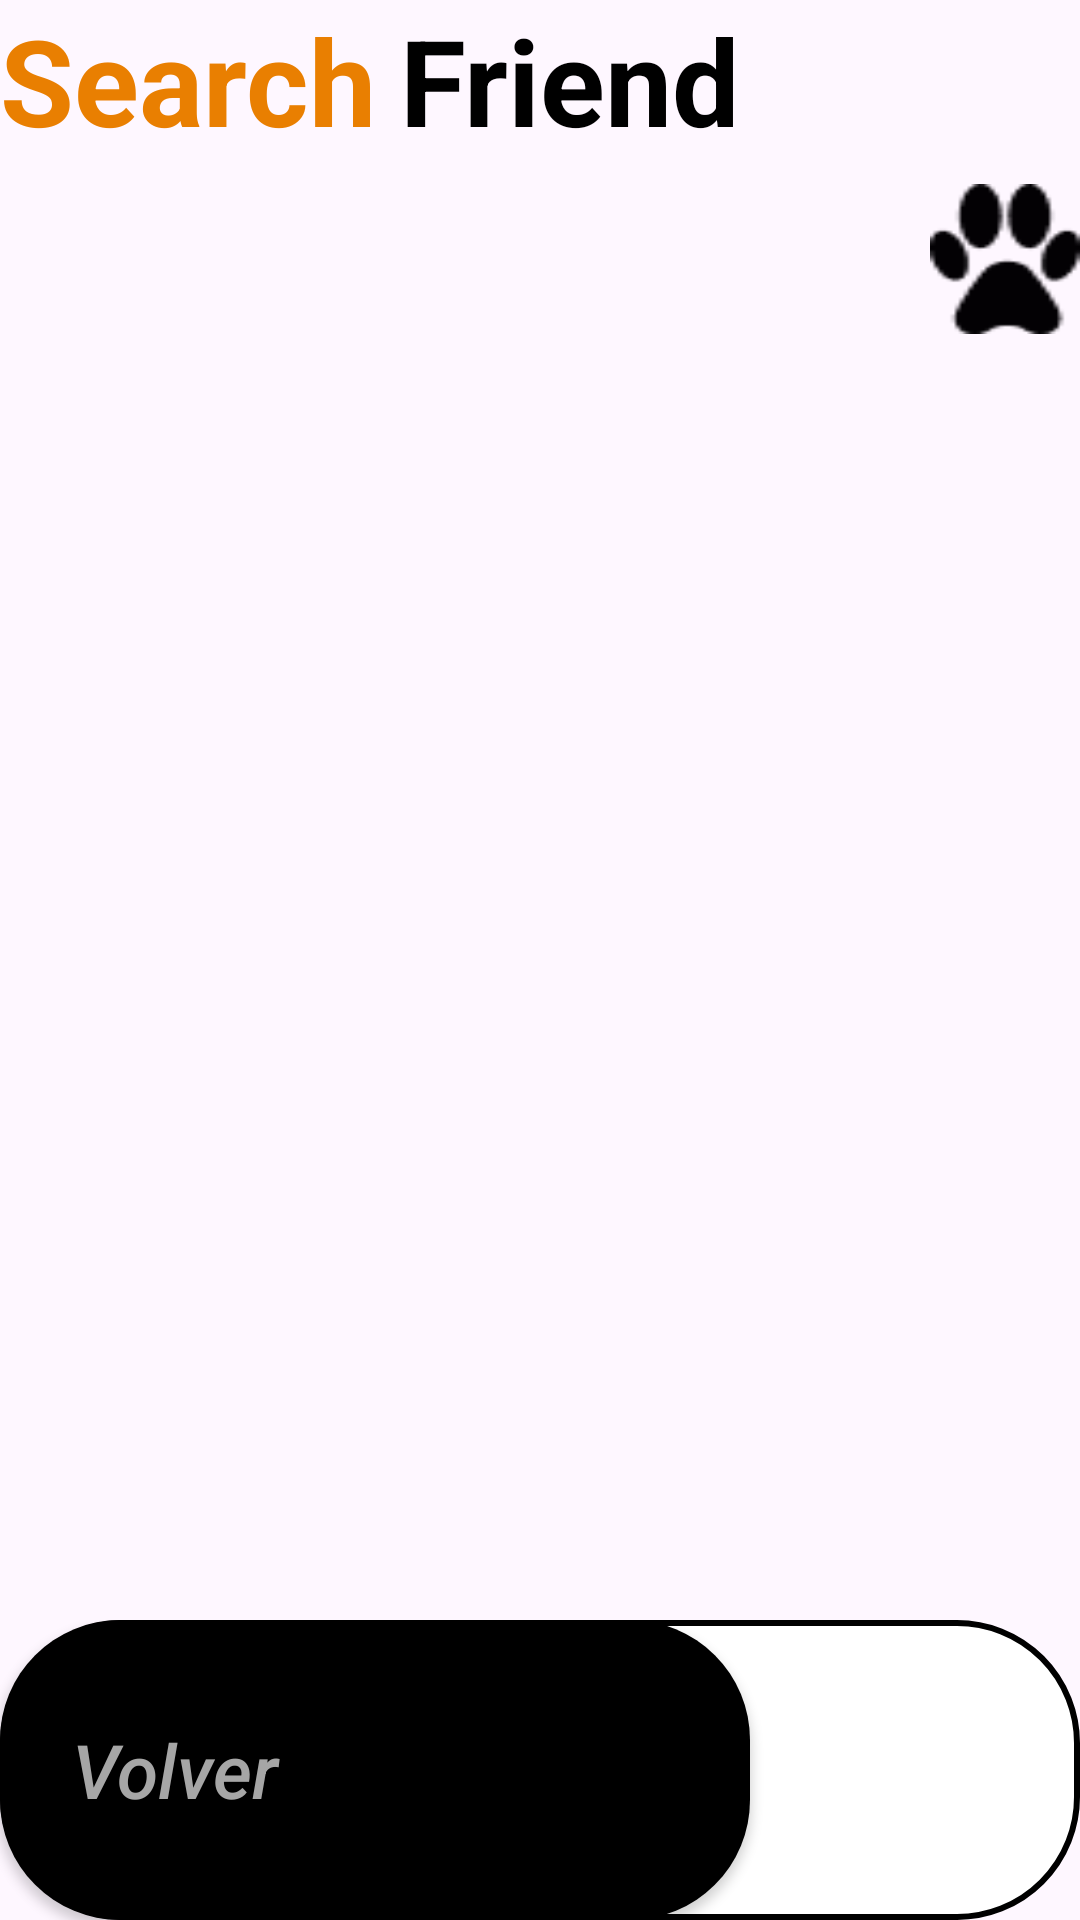

Where icons sit on this 1080*1920 app screen, as (x1, y1, x2, y2):
paw: (930, 184, 1080, 334)
